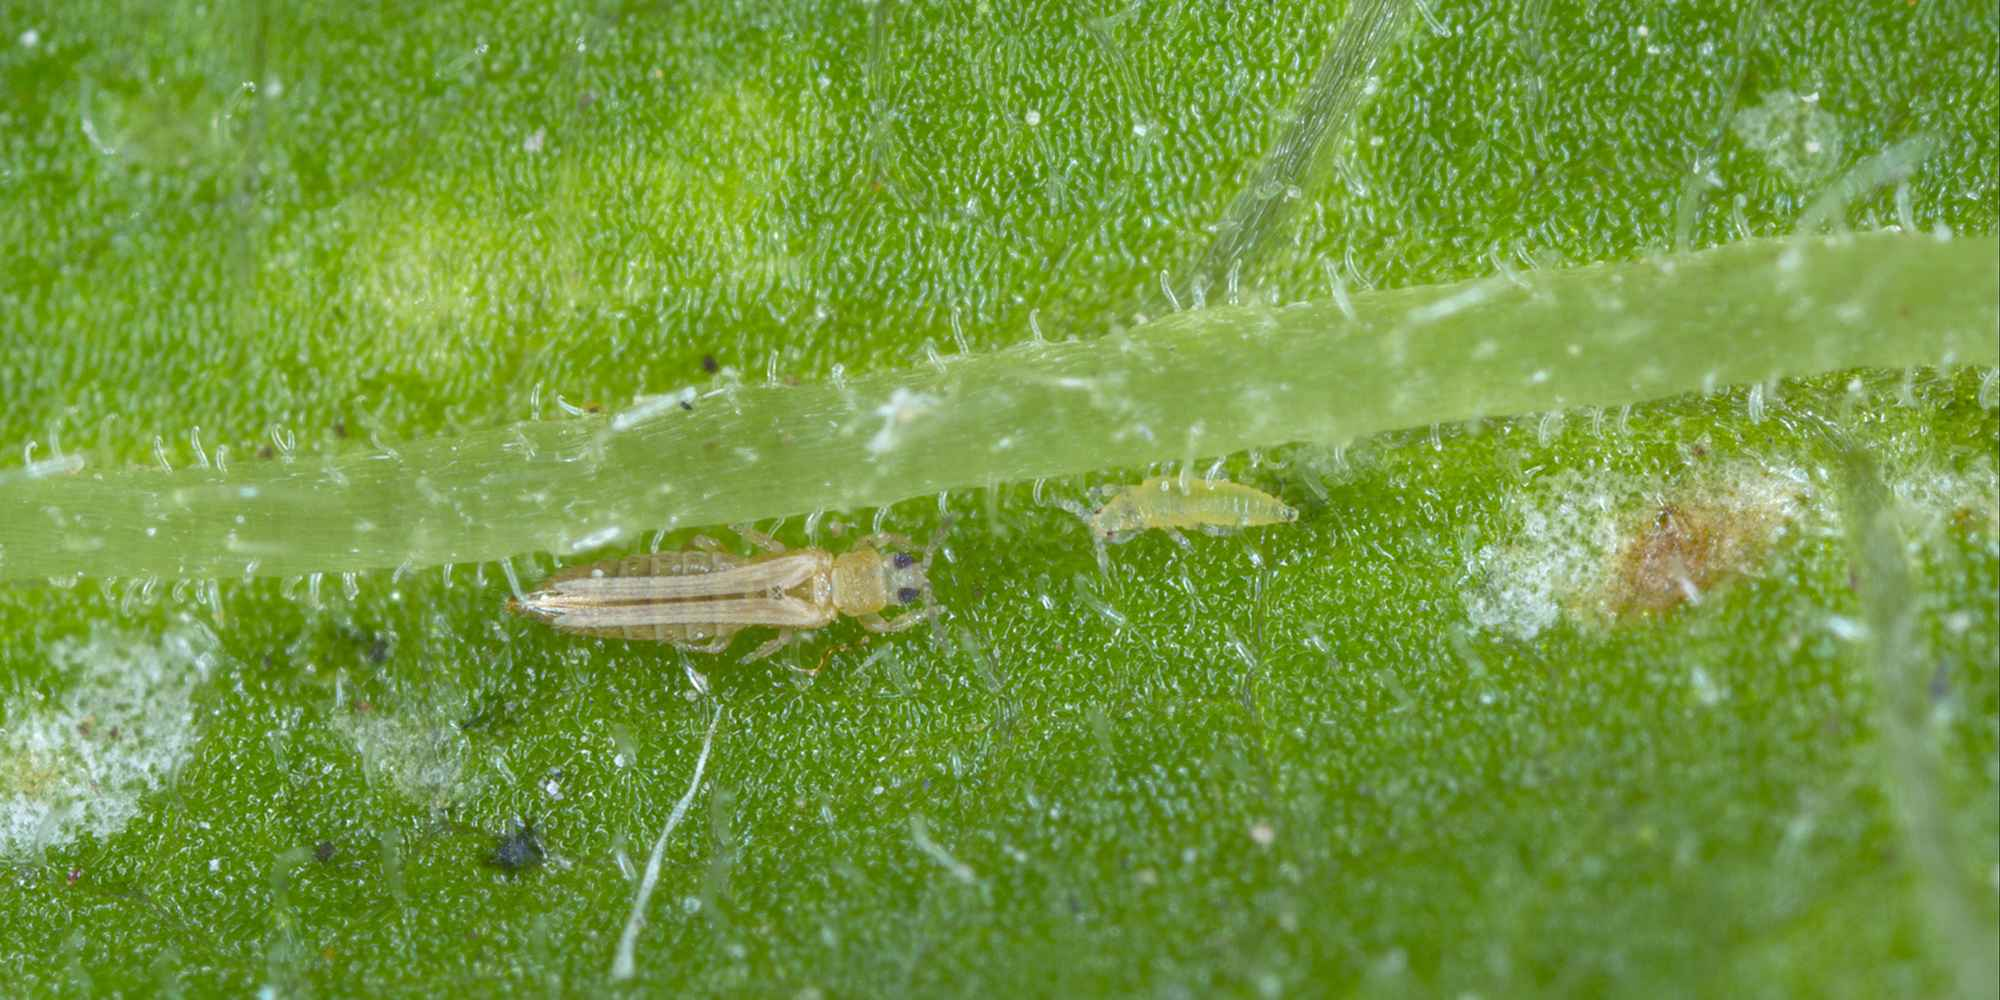Thrips: (513, 528, 990, 682), (1064, 455, 1284, 593)
